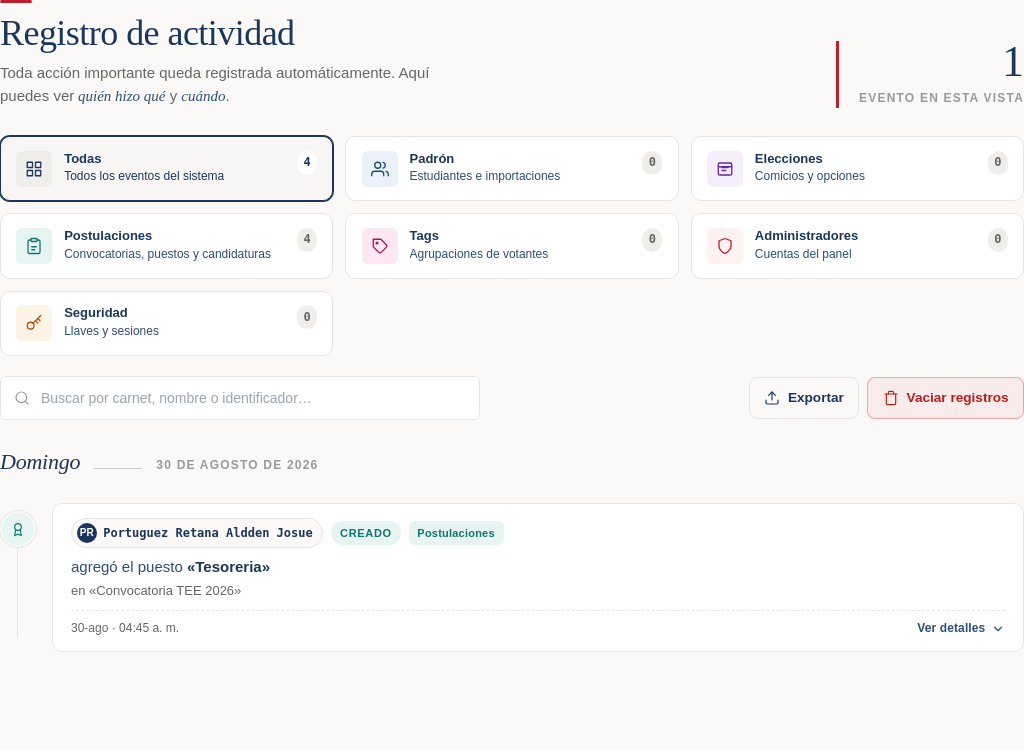
Test: auditoría de postulaciones › esconde las llaves foráneas al abrir el detalle
The width and height of the screenshot is (1024, 750).
expect the text "agregó el puesto" is shown: met, box [71,558,183,575]
Click the text "Ver detalles": (961, 629) [917,619,1005,639]
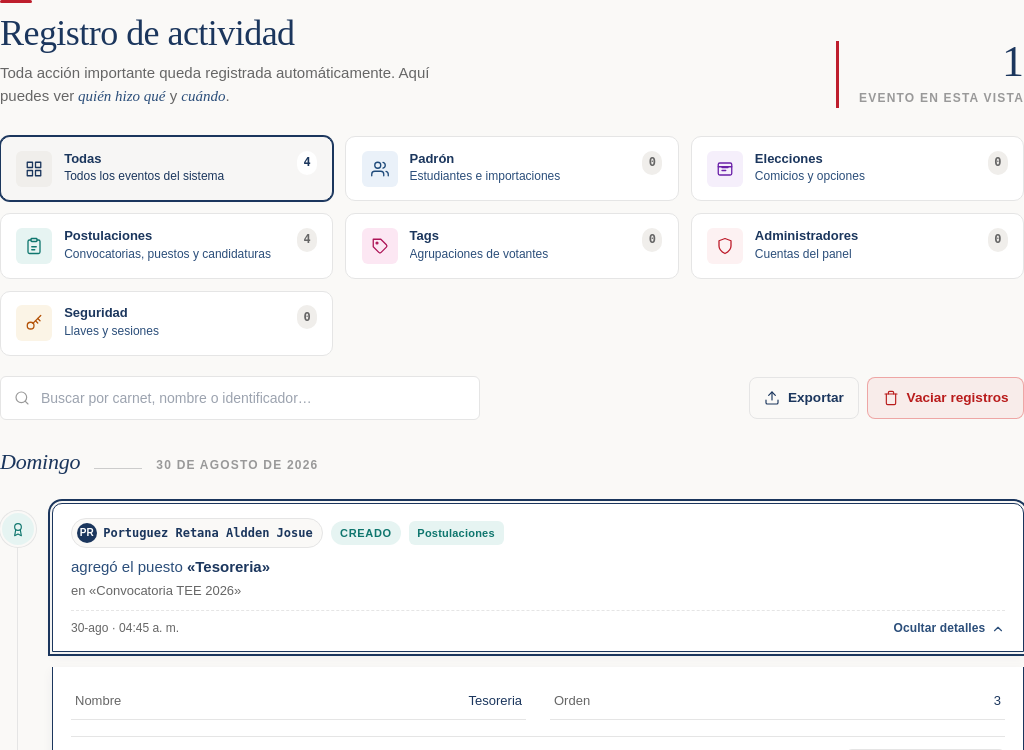
expect the text "nombre" is shown: met, box [75,691,121,711]
expect the text "orden" is shown: met, box [554,691,590,711]
